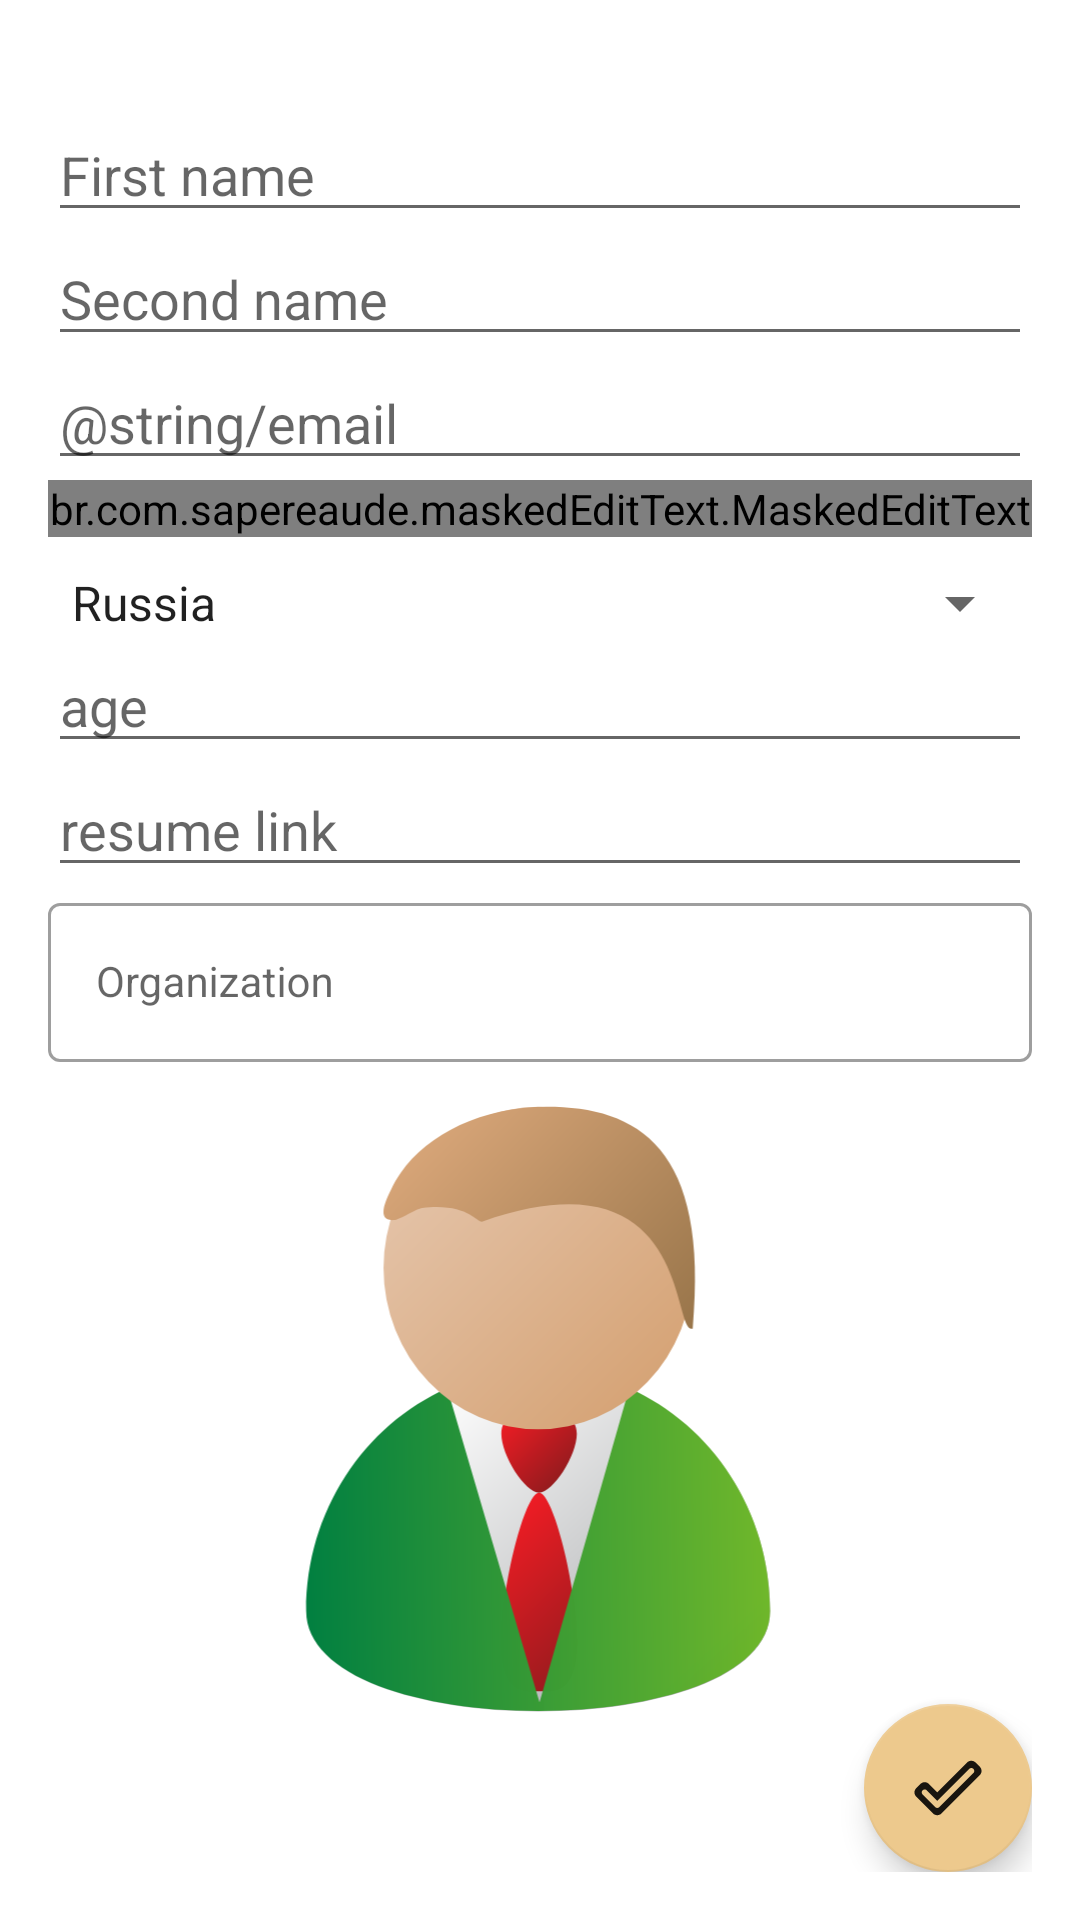

Icons on this 1080 × 1920 Android screen, each with its box as (x1, y1, x2, y2):
done: (864, 1704, 1032, 1872)
